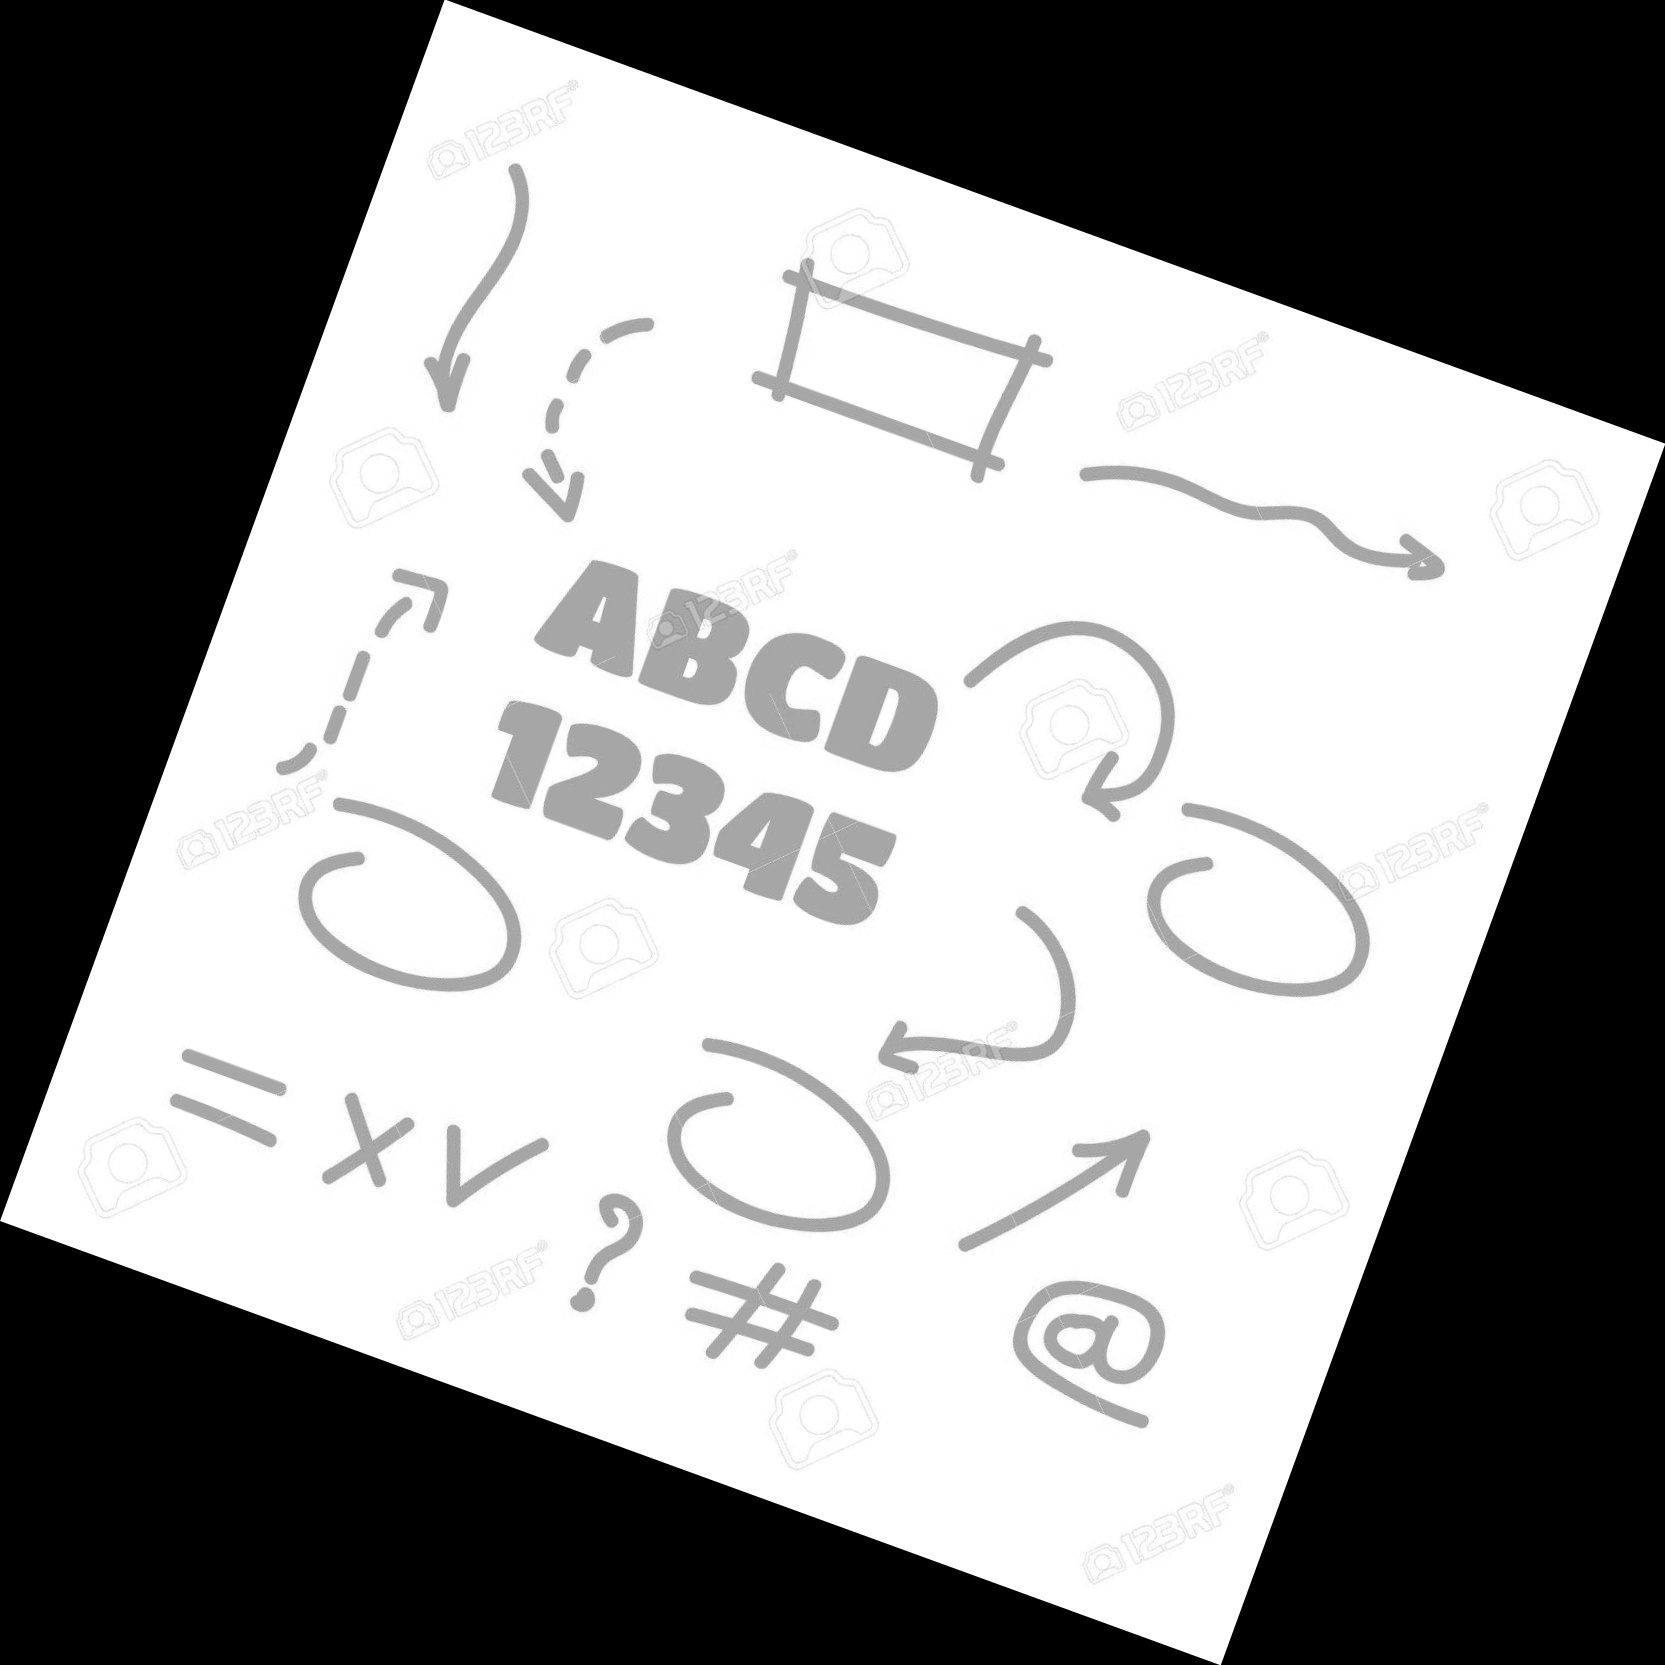arrow: (1023, 1124, 1160, 1243), (345, 560, 460, 695), (1078, 701, 1179, 829), (511, 389, 601, 531), (871, 1003, 1019, 1089), (416, 287, 492, 422), (1337, 512, 1455, 585)
